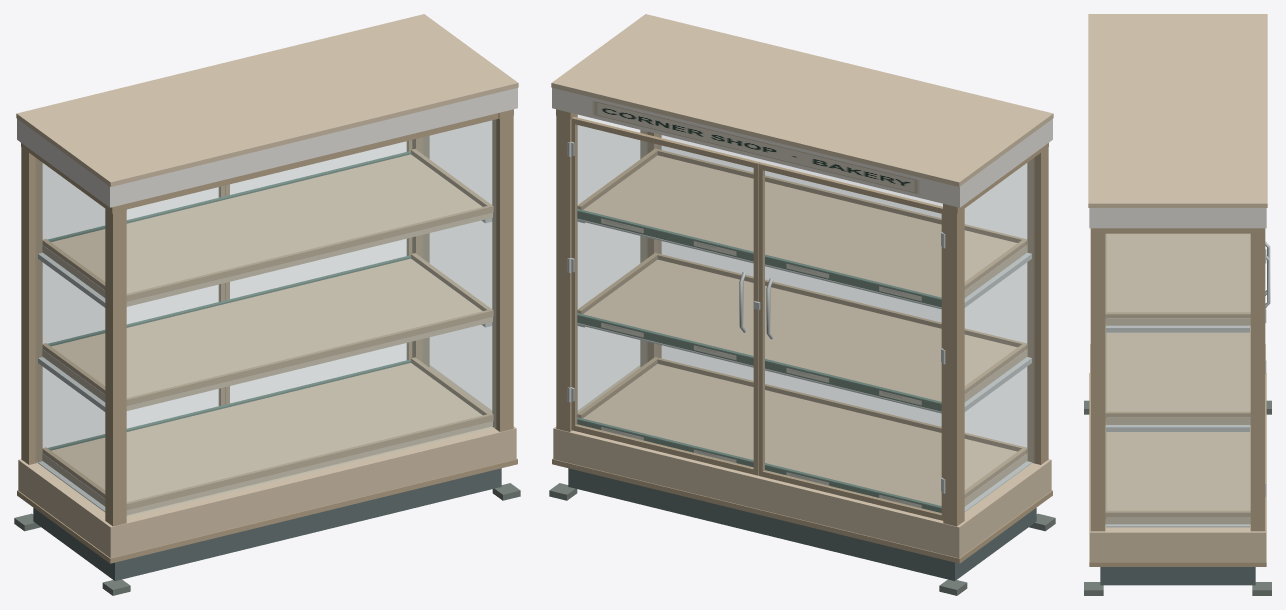
The model's file is bakery-glass.glb.
3 views of the same model, side by side, from view 1: azimuth 30°, elevation 25°; view 2: azimuth 150°, elevation 25°; view 3: azimuth 270°, elevation 25° (orthographic). The views are drawn at different scales.
Visible parts, largest first — view 1: library-equipment-bakery-glass-product-equipment-birch, library-equipment-bakery-glass-product-equipment-clear-glass, library-equipment-bakery-glass-product-equipment-birch-edge, library-equipment-bakery-glass-bakery-glass-cream-canopy, library-equipment-bakery-glass-bakery-glass-inset-kick-base, library-equipment-bakery-glass-product-equipment-forest, library-equipment-bakery-glass-product-equipment-steel, library-equipment-bakery-glass-product-equipment-rubber; view 2: library-equipment-bakery-glass-product-equipment-birch, library-equipment-bakery-glass-product-equipment-clear-glass, library-equipment-bakery-glass-product-equipment-birch-edge, library-equipment-bakery-glass-bakery-glass-inset-kick-base, library-equipment-bakery-glass-product-label-equipment-displ, library-equipment-bakery-glass-bakery-glass-cream-canopy, library-equipment-bakery-glass-bakery-glass-bakery-sign, library-equipment-bakery-glass-product-equipment-steel, library-equipment-bakery-glass-product-equipment-forest, library-equipment-bakery-glass-product-equipment-rubber; view 3: library-equipment-bakery-glass-product-equipment-birch, library-equipment-bakery-glass-product-equipment-clear-glass, library-equipment-bakery-glass-product-equipment-birch-edge, library-equipment-bakery-glass-bakery-glass-cream-canopy, library-equipment-bakery-glass-product-equipment-steel, library-equipment-bakery-glass-bakery-glass-inset-kick-base, library-equipment-bakery-glass-product-equipment-rubber.
Boxes of the visible parts, x1=… form: library-equipment-bakery-glass-product-equipment-birch: x1=16, y1=14, x2=518, y2=557; library-equipment-bakery-glass-product-equipment-clear-glass: x1=35, y1=120, x2=495, y2=517; library-equipment-bakery-glass-product-equipment-birch-edge: x1=17, y1=109, x2=517, y2=563; library-equipment-bakery-glass-bakery-glass-cream-canopy: x1=17, y1=88, x2=517, y2=207; library-equipment-bakery-glass-bakery-glass-inset-kick-base: x1=33, y1=468, x2=501, y2=580; library-equipment-bakery-glass-product-equipment-forest: x1=47, y1=151, x2=410, y2=450; library-equipment-bakery-glass-product-equipment-steel: x1=38, y1=218, x2=492, y2=511; library-equipment-bakery-glass-product-equipment-rubber: x1=14, y1=483, x2=520, y2=595; library-equipment-bakery-glass-product-equipment-birch: x1=551, y1=14, x2=1053, y2=557; library-equipment-bakery-glass-product-equipment-clear-glass: x1=576, y1=115, x2=1034, y2=513; library-equipment-bakery-glass-product-equipment-birch-edge: x1=552, y1=109, x2=1052, y2=563; library-equipment-bakery-glass-bakery-glass-inset-kick-base: x1=568, y1=468, x2=1036, y2=580; library-equipment-bakery-glass-product-label-equipment-displ: x1=577, y1=211, x2=941, y2=512; library-equipment-bakery-glass-bakery-glass-cream-canopy: x1=552, y1=88, x2=1052, y2=207; library-equipment-bakery-glass-bakery-glass-bakery-sign: x1=592, y1=100, x2=919, y2=194; library-equipment-bakery-glass-product-equipment-steel: x1=567, y1=141, x2=1031, y2=511; library-equipment-bakery-glass-product-equipment-forest: x1=577, y1=209, x2=941, y2=508; library-equipment-bakery-glass-product-equipment-rubber: x1=549, y1=483, x2=1055, y2=595; library-equipment-bakery-glass-product-equipment-birch: x1=1088, y1=14, x2=1267, y2=561; library-equipment-bakery-glass-product-equipment-clear-glass: x1=1105, y1=234, x2=1250, y2=525; library-equipment-bakery-glass-product-equipment-birch-edge: x1=1089, y1=228, x2=1266, y2=566; library-equipment-bakery-glass-bakery-glass-cream-canopy: x1=1089, y1=208, x2=1266, y2=228; library-equipment-bakery-glass-product-equipment-steel: x1=1106, y1=241, x2=1270, y2=527; library-equipment-bakery-glass-bakery-glass-inset-kick-base: x1=1100, y1=567, x2=1255, y2=585; library-equipment-bakery-glass-product-equipment-rubber: x1=1084, y1=400, x2=1271, y2=595.
Size of the model in its own units: 1.72 by 1.66 by 0.72.
Materials: 10 (2 with a texture image).
